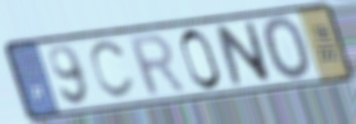0: (178, 27, 223, 92)
9: (48, 44, 93, 107)
C: (88, 38, 137, 101)
N: (212, 19, 274, 89)
O: (261, 15, 314, 84)
R: (125, 31, 189, 99)
